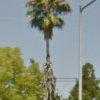Palm tree: (24, 0, 65, 69)
